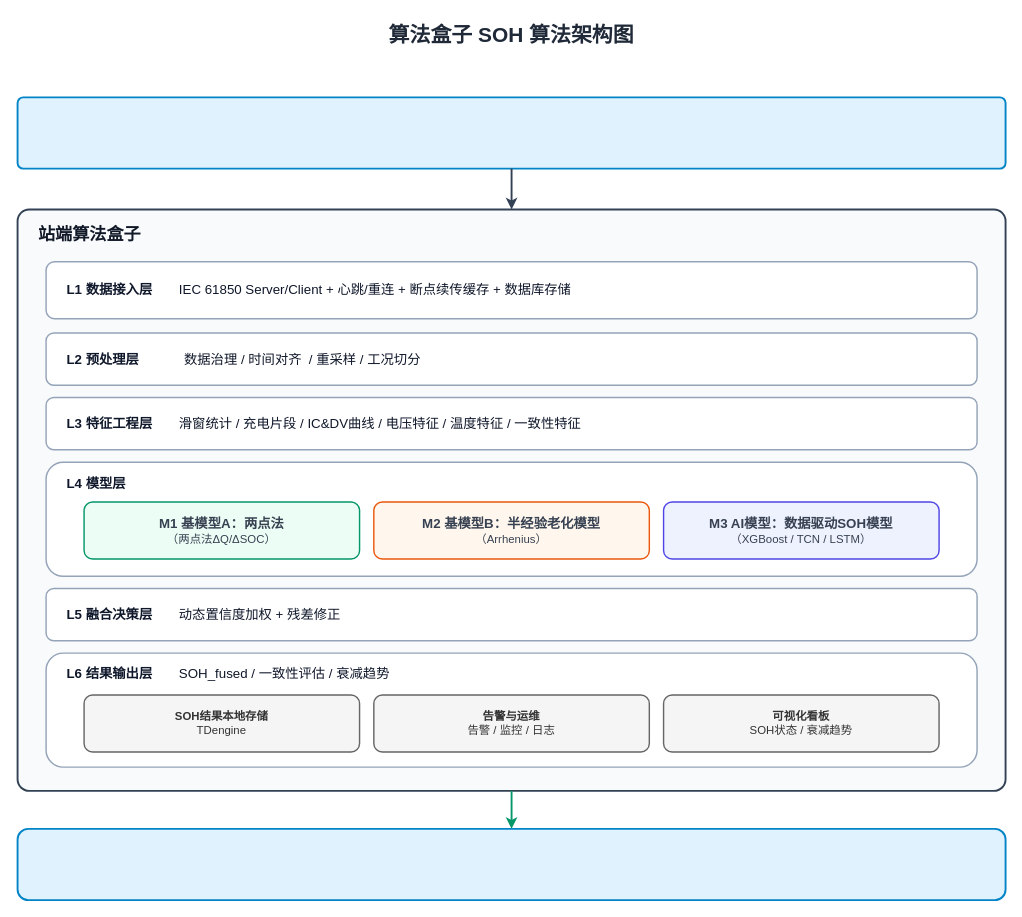
Some shapes in this 1022 by 917 pixel diagram are drawn without their labels. Each missing label, with the centre of its shape:
BMS BAU └── SOH校正（二期）：|AI-BMS| > 5%时，BMS触发修正SOH策略: [511,864]
BMS BAU └── TCP上传：U/I/T/SOC/单体电压/温度/累计运营时间和吞吐容量等数据信号: [511,132]
